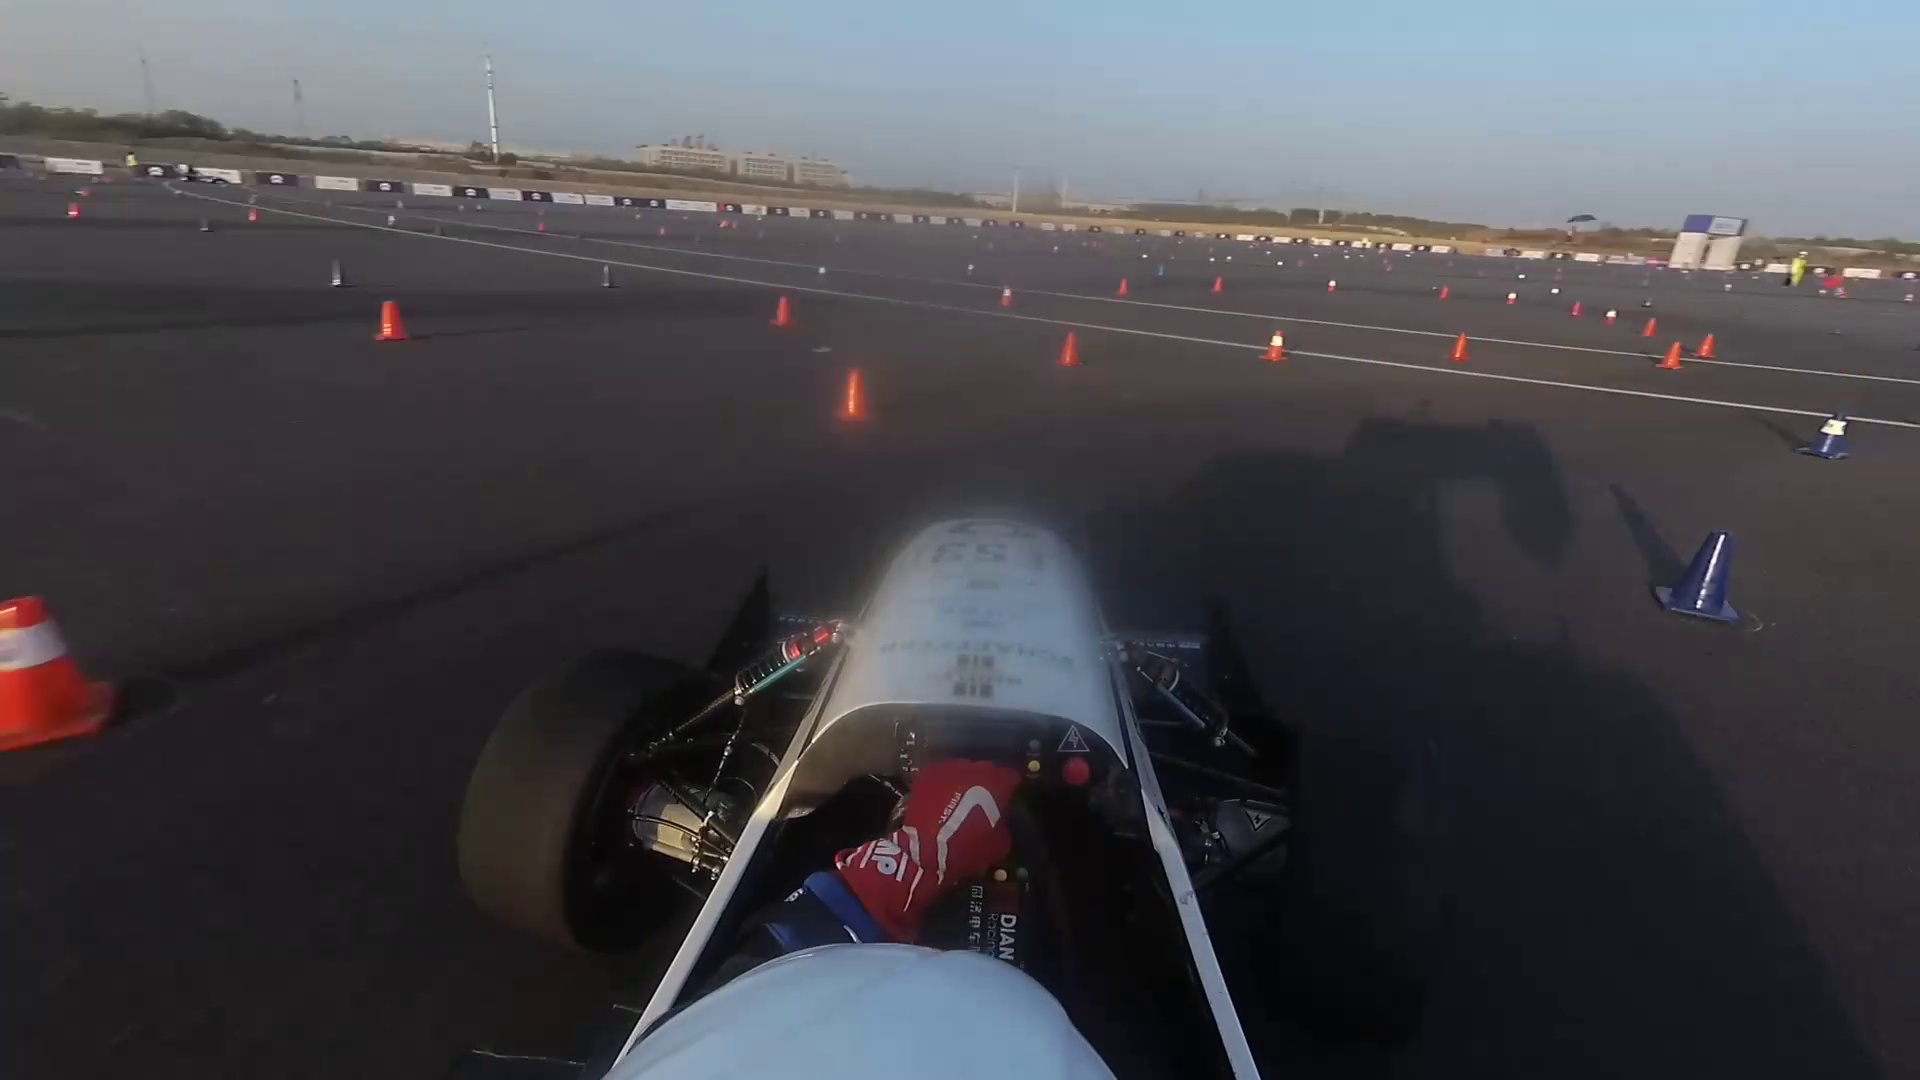blue_cone: (1662, 518, 1751, 636), (1804, 407, 1851, 469), (595, 262, 625, 293), (323, 258, 348, 294)
red_cone: (8, 593, 94, 758), (833, 369, 874, 439), (378, 298, 410, 345), (1058, 330, 1083, 377), (1263, 330, 1291, 367), (1655, 342, 1685, 371), (1695, 331, 1714, 361), (771, 301, 793, 328), (1452, 331, 1466, 363), (1117, 277, 1130, 302), (1000, 289, 1015, 309), (67, 204, 82, 223), (1643, 318, 1656, 336), (1571, 301, 1582, 320), (1212, 277, 1225, 294), (248, 207, 258, 227), (1437, 287, 1451, 301), (1328, 280, 1338, 294), (1509, 293, 1516, 305)
